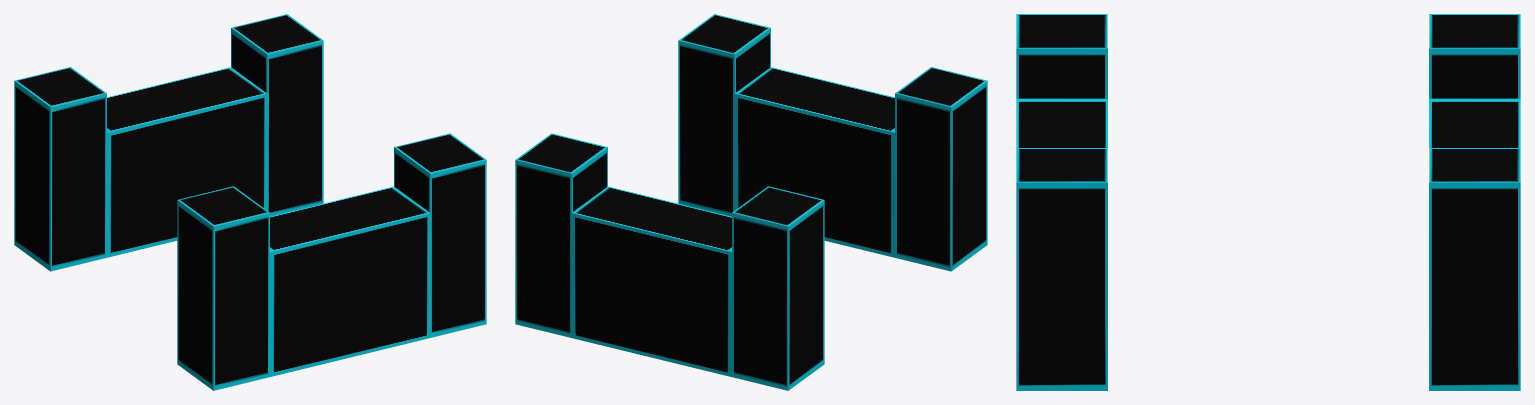
The model's file is bridge_side.fbx.
The picture shows the model from 3 angles, left to right: view 1: azimuth 30°, elevation 25°; view 2: azimuth 150°, elevation 25°; view 3: azimuth 270°, elevation 25°; orthographic projection. The views are drawn at different scales.
Visible parts, largest first — view 1: stairsFlatRail; view 2: stairsFlatRail; view 3: stairsFlatRail.
Boxes of the visible parts, x1,y1,x2,y2 form: stairsFlatRail: (14,14,486,390); stairsFlatRail: (515,14,987,390); stairsFlatRail: (1016,14,1520,390).
Size of the model in its own units: 143 by 82.3 by 181.
